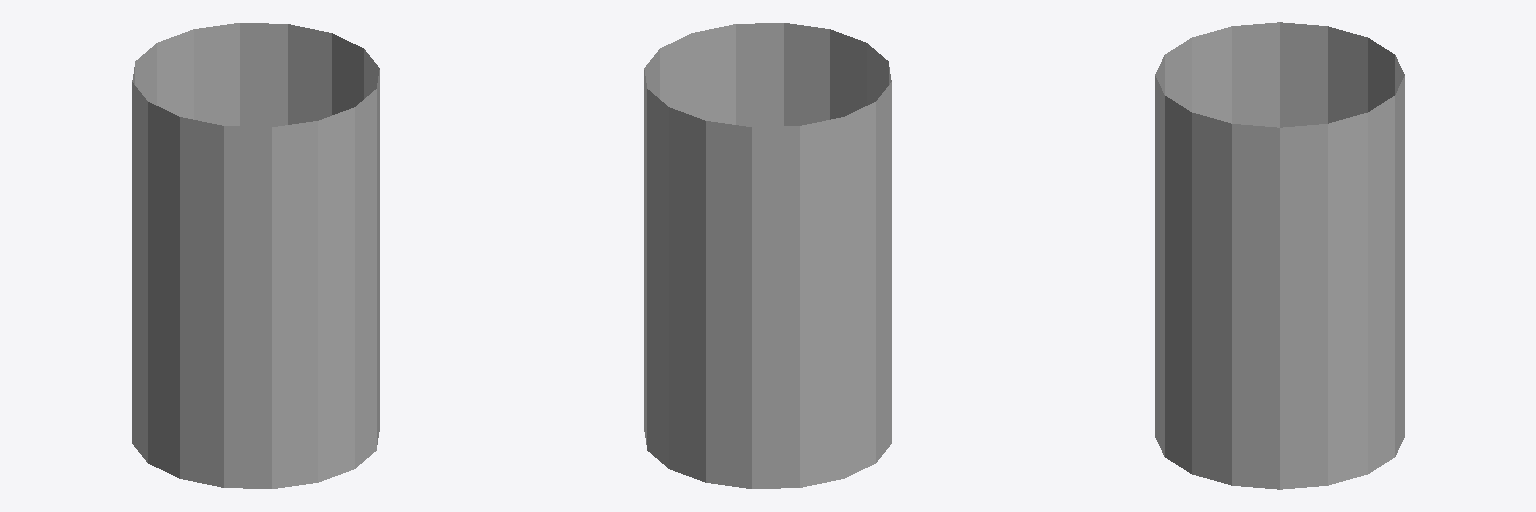
The model's file is feild.obj.
3 views of the same model, side by side, from view 1: azimuth 30°, elevation 25°; view 2: azimuth 150°, elevation 25°; view 3: azimuth 270°, elevation 25° (orthographic).
Visible parts, largest first — view 1: feild; view 2: feild; view 3: feild.
Boxes of the visible parts, <box> form: feild: <box>132,23,379,488</box>; feild: <box>644,23,891,488</box>; feild: <box>1155,22,1404,489</box>.
Size of the model in its own units: 20 by 32 by 20.